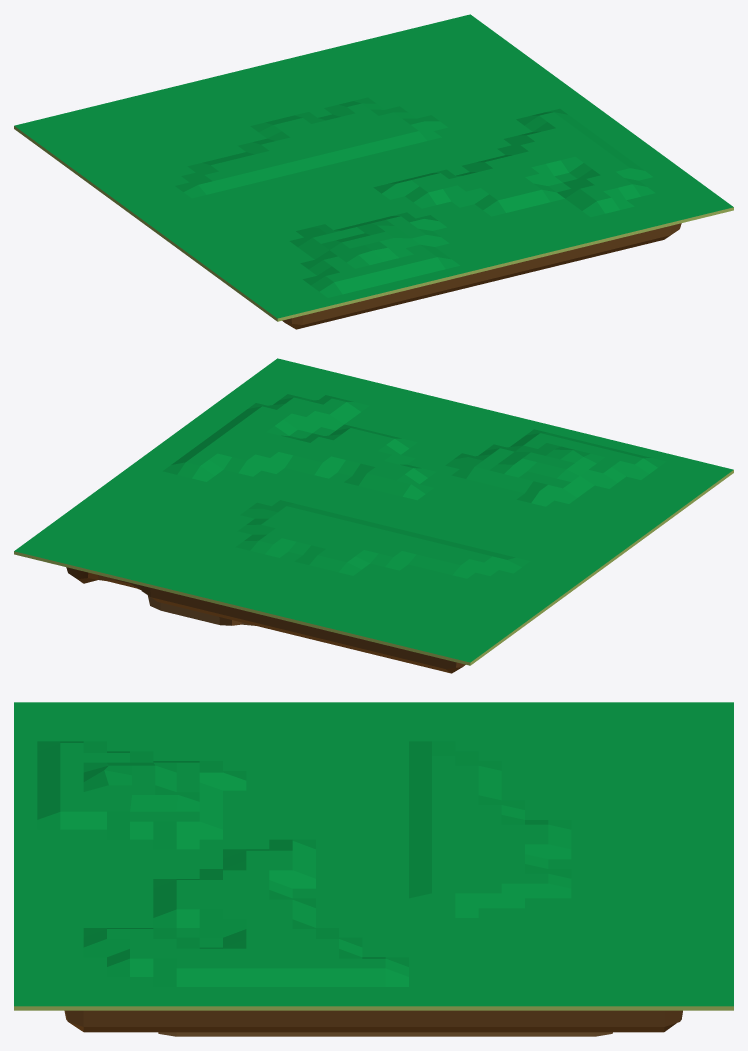
File: insel2.fbx
3 views of the same model, one above another, from view 1: azimuth 30°, elevation 25°; view 2: azimuth 150°, elevation 25°; view 3: azimuth 270°, elevation 25° (orthographic). The views are drawn at different scales.
Parts seen in each view (by area): view 1: Cube; view 2: Cube; view 3: Cube.
Part boxes in pixels (x1=…): Cube: x1=14, y1=14, x2=733, y2=329; Cube: x1=14, y1=358, x2=733, y2=673; Cube: x1=14, y1=702, x2=733, y2=1036.
Bounding box in the file's own units: 6000 × 1060 × 6000.
